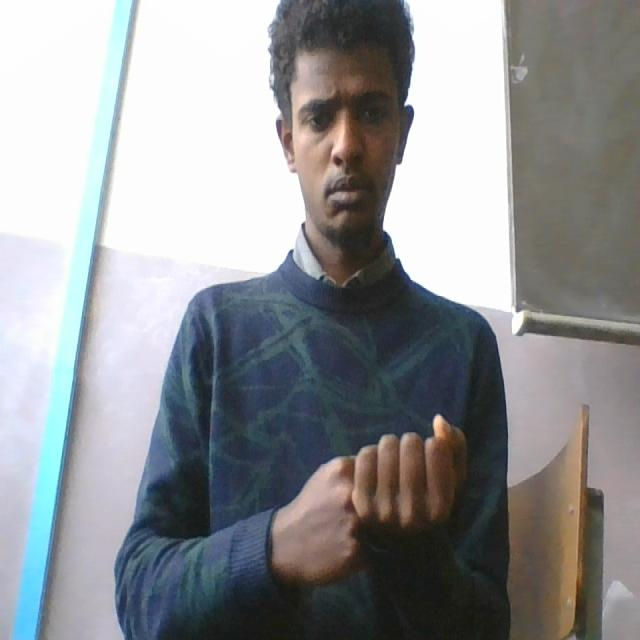beg: (264, 404, 474, 596)
